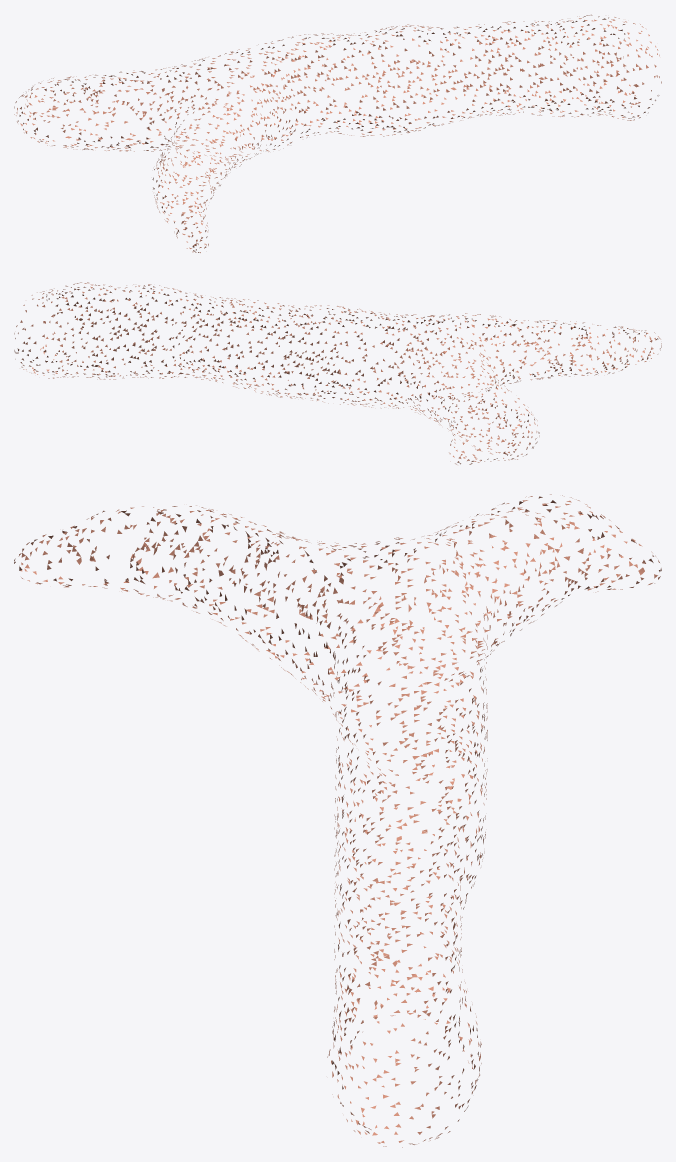
File: morph_003.glb
The picture shows the model from 3 angles, top to bottom: view 1: azimuth 30°, elevation 25°; view 2: azimuth 150°, elevation 25°; view 3: azimuth 270°, elevation 25°; orthographic projection. The views are drawn at different scales.
Size of the model in its own units: 131 by 32.68 by 75.66.
